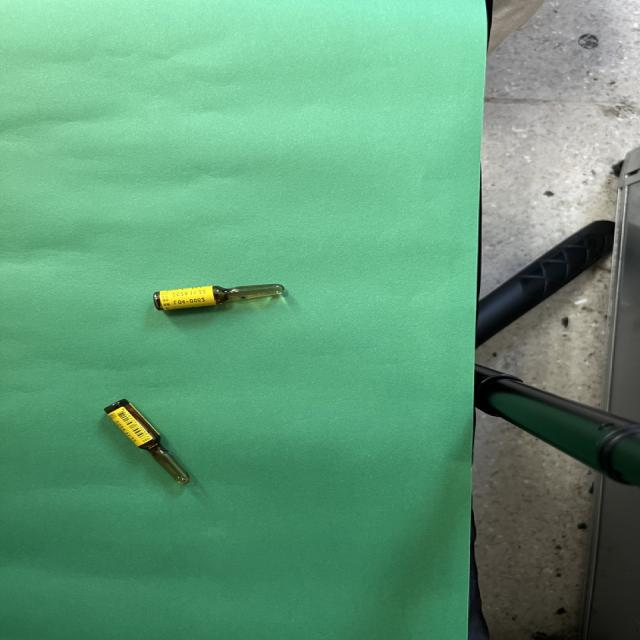Ampoules: (105, 400, 190, 484), (154, 284, 285, 311)
